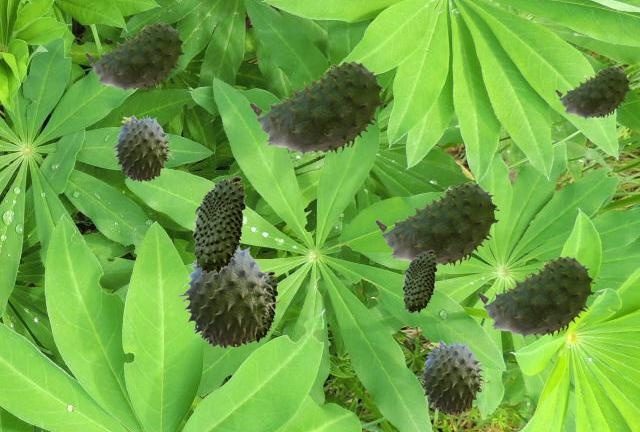guyabano: (249, 61, 384, 158), (177, 246, 281, 348), (375, 182, 498, 266), (477, 256, 594, 340), (85, 22, 184, 93), (416, 339, 490, 414), (192, 176, 245, 273), (110, 114, 176, 181), (555, 66, 630, 120), (402, 250, 436, 312), (248, 271, 277, 342)
